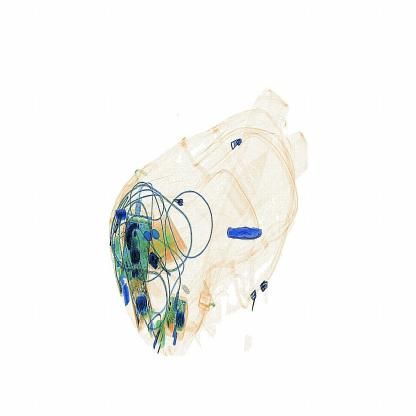knife: (224, 220, 268, 245)
